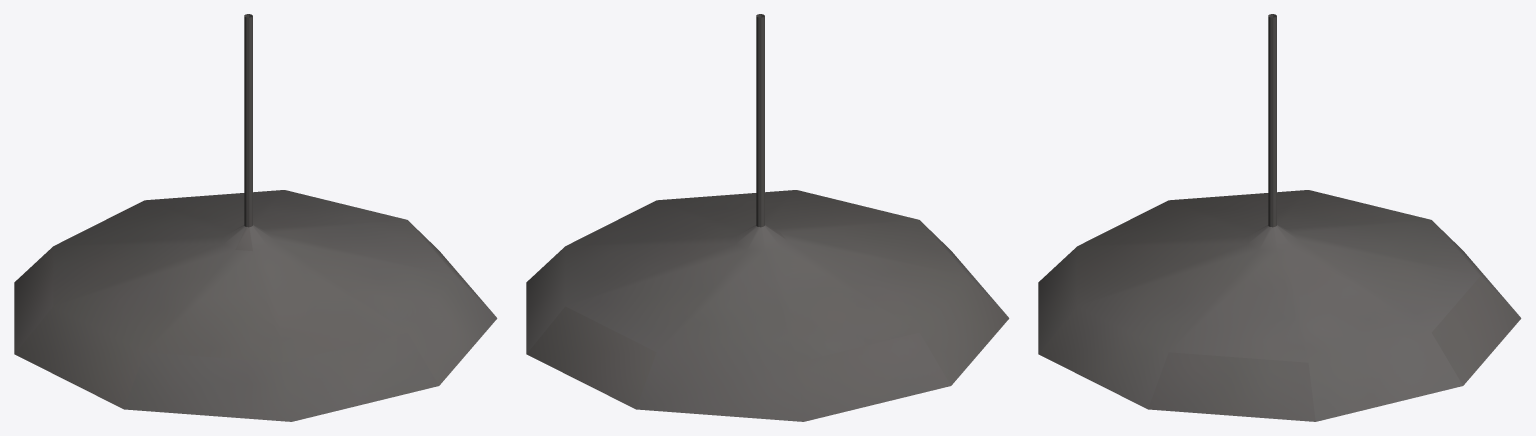
File: lampara.fbx
The picture shows the model from 3 angles, left to right: view 1: azimuth 30°, elevation 25°; view 2: azimuth 150°, elevation 25°; view 3: azimuth 270°, elevation 25°; orthographic projection.
Parts seen in each view (by area): view 1: Lampara; view 2: Lampara; view 3: Lampara.
Part boxes in pixels (bbox=[...]): Lampara: bbox=[14, 14, 497, 421]; Lampara: bbox=[526, 14, 1009, 421]; Lampara: bbox=[1038, 14, 1521, 421].
Size of the model in its own units: 72.35 by 49.23 by 71.25.
